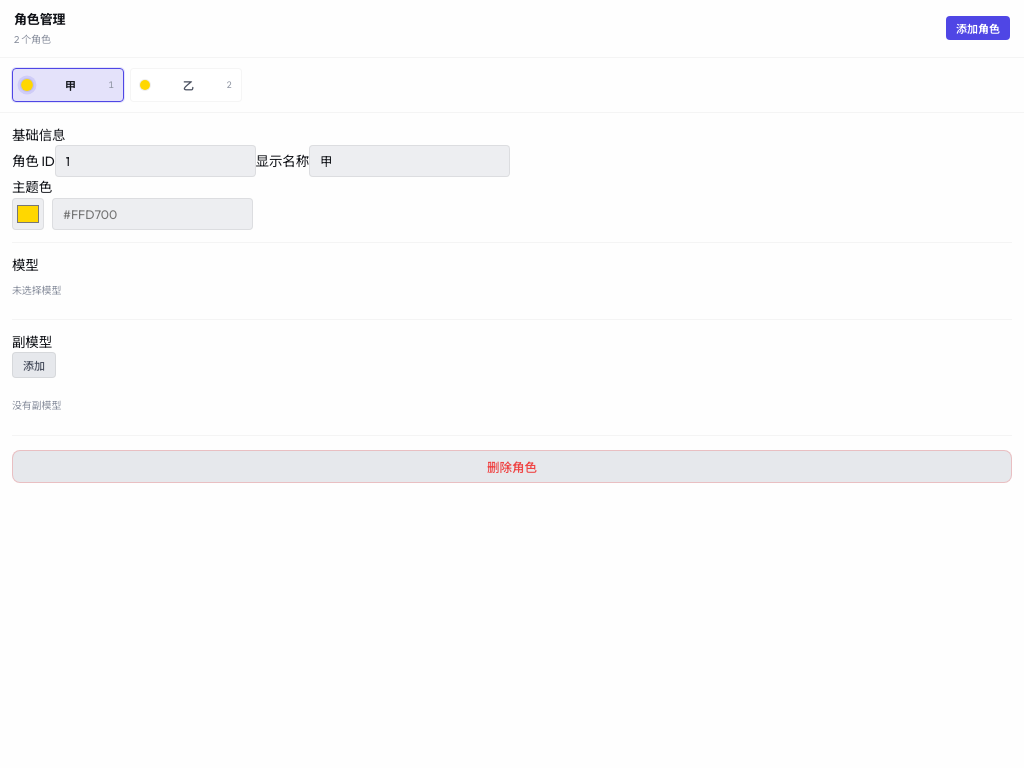
Test: CharacterDirectoryPanel character id input › keeps an emptied id editable and only reports it when the field is left empty
This screenshot has width=1024, height=768.
Click the option with test id "character-list-item" showing "乙 2" at [186, 84], box [130,68,242,102]
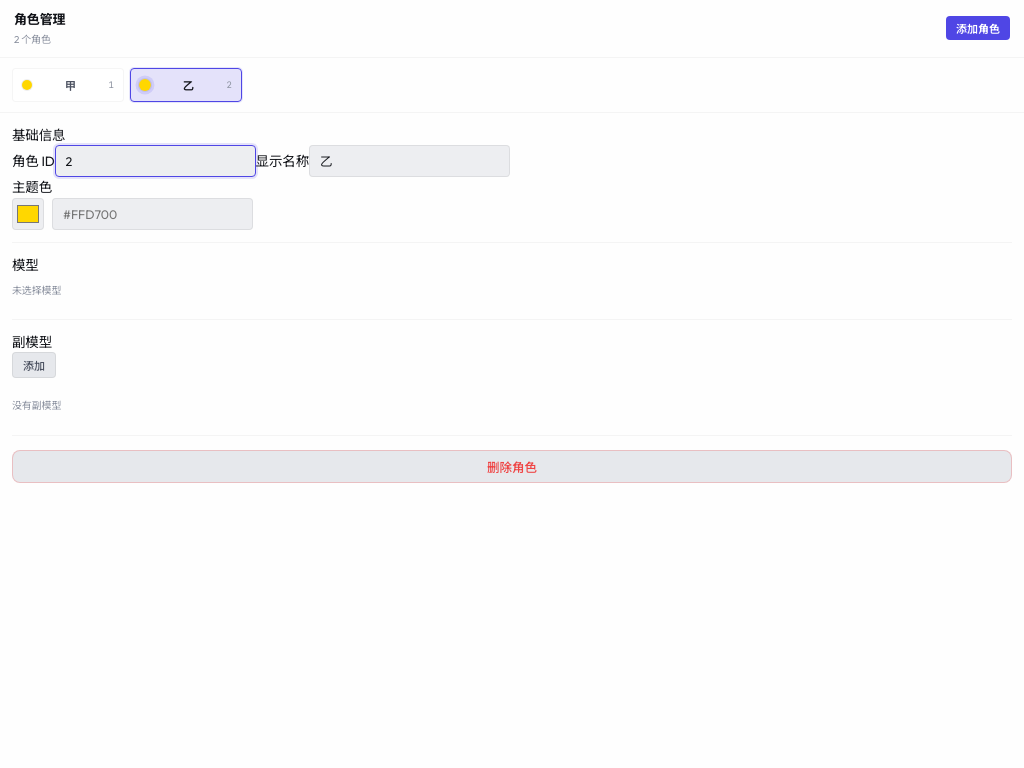
Clear the field with test id "character-id-input" at [155, 161], box [55,145,256,177]
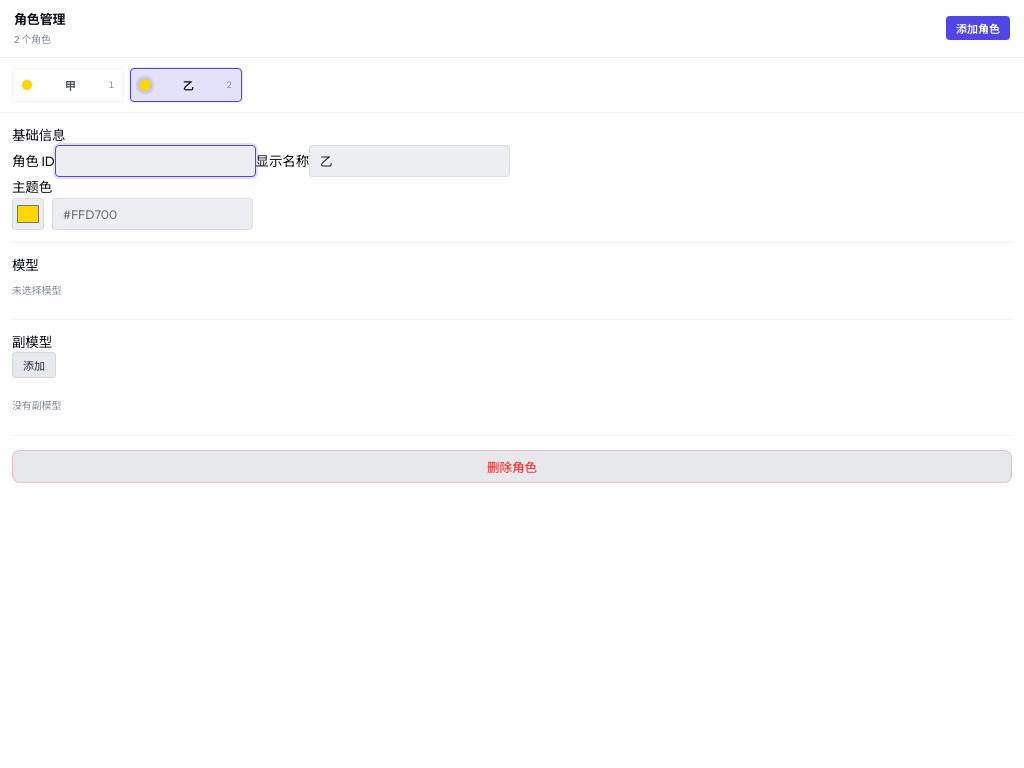
Now the option with test id "character-list-item" has attribute data-active="true", box [130,68,242,102]
Leave the field with test id "character-id-input", box [55,145,256,177]
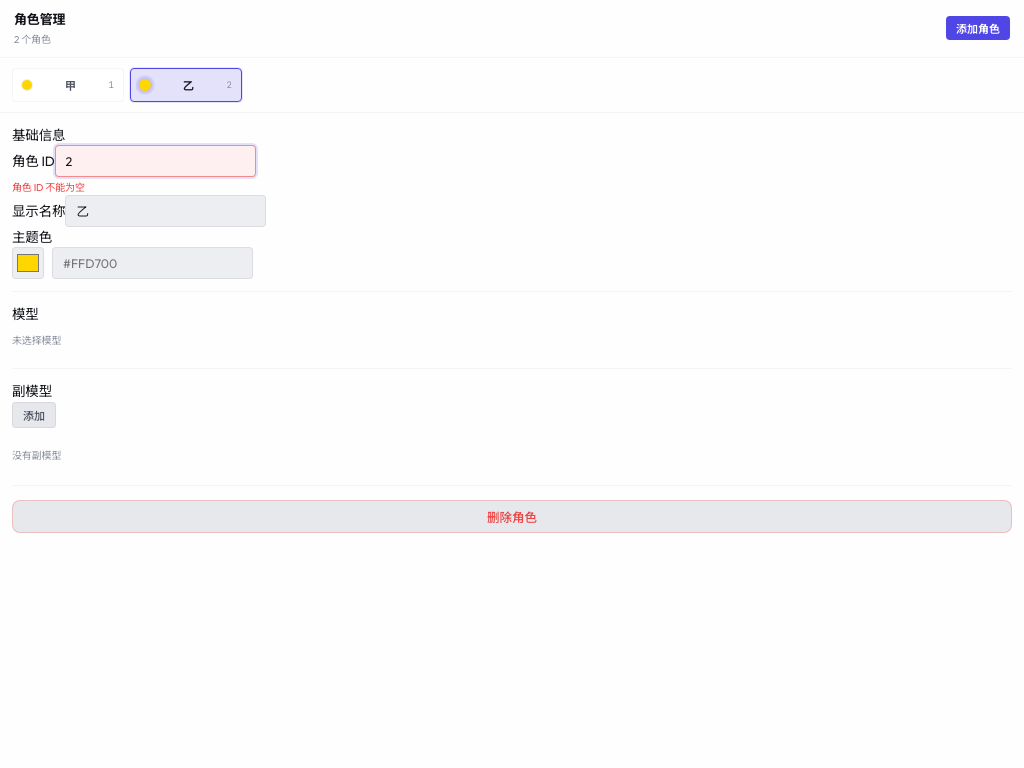
Now the message shows "不能为空", box [12,181,85,194]
Now the field with test id "character-id-input" holds "2", box [55,145,256,177]
